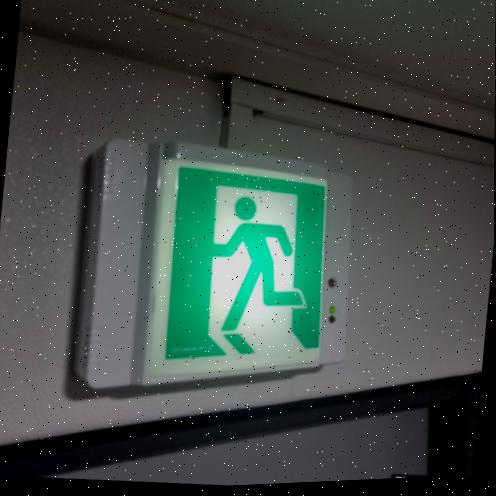emergency_exit: (140, 154, 329, 385)
